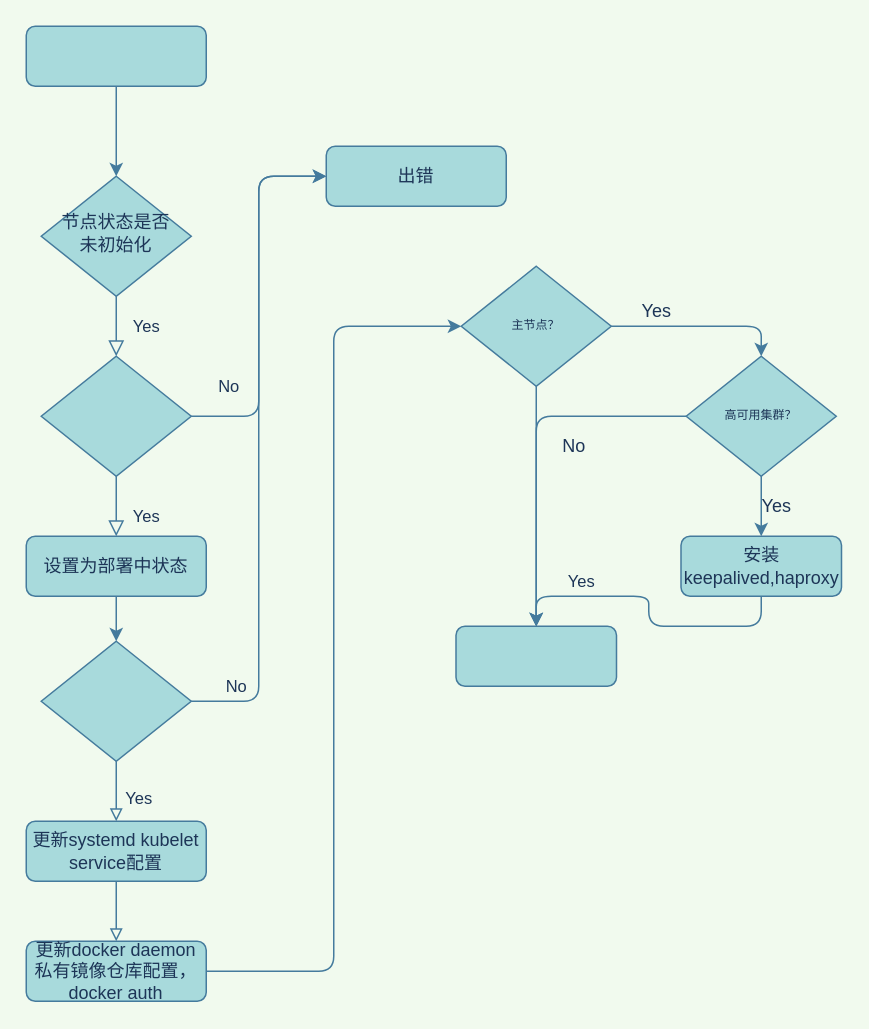
Image size: 869x1029. Some labels were removed from this diagram. The centre of each missing label's shape, as x and y in pixels:
"kubeadm安装节点" goes at (535,655).
"依赖工具是否存在" goes at (115,700).
"参数有效？" goes at (115,415).
"请求加入集群" goes at (115,55).
